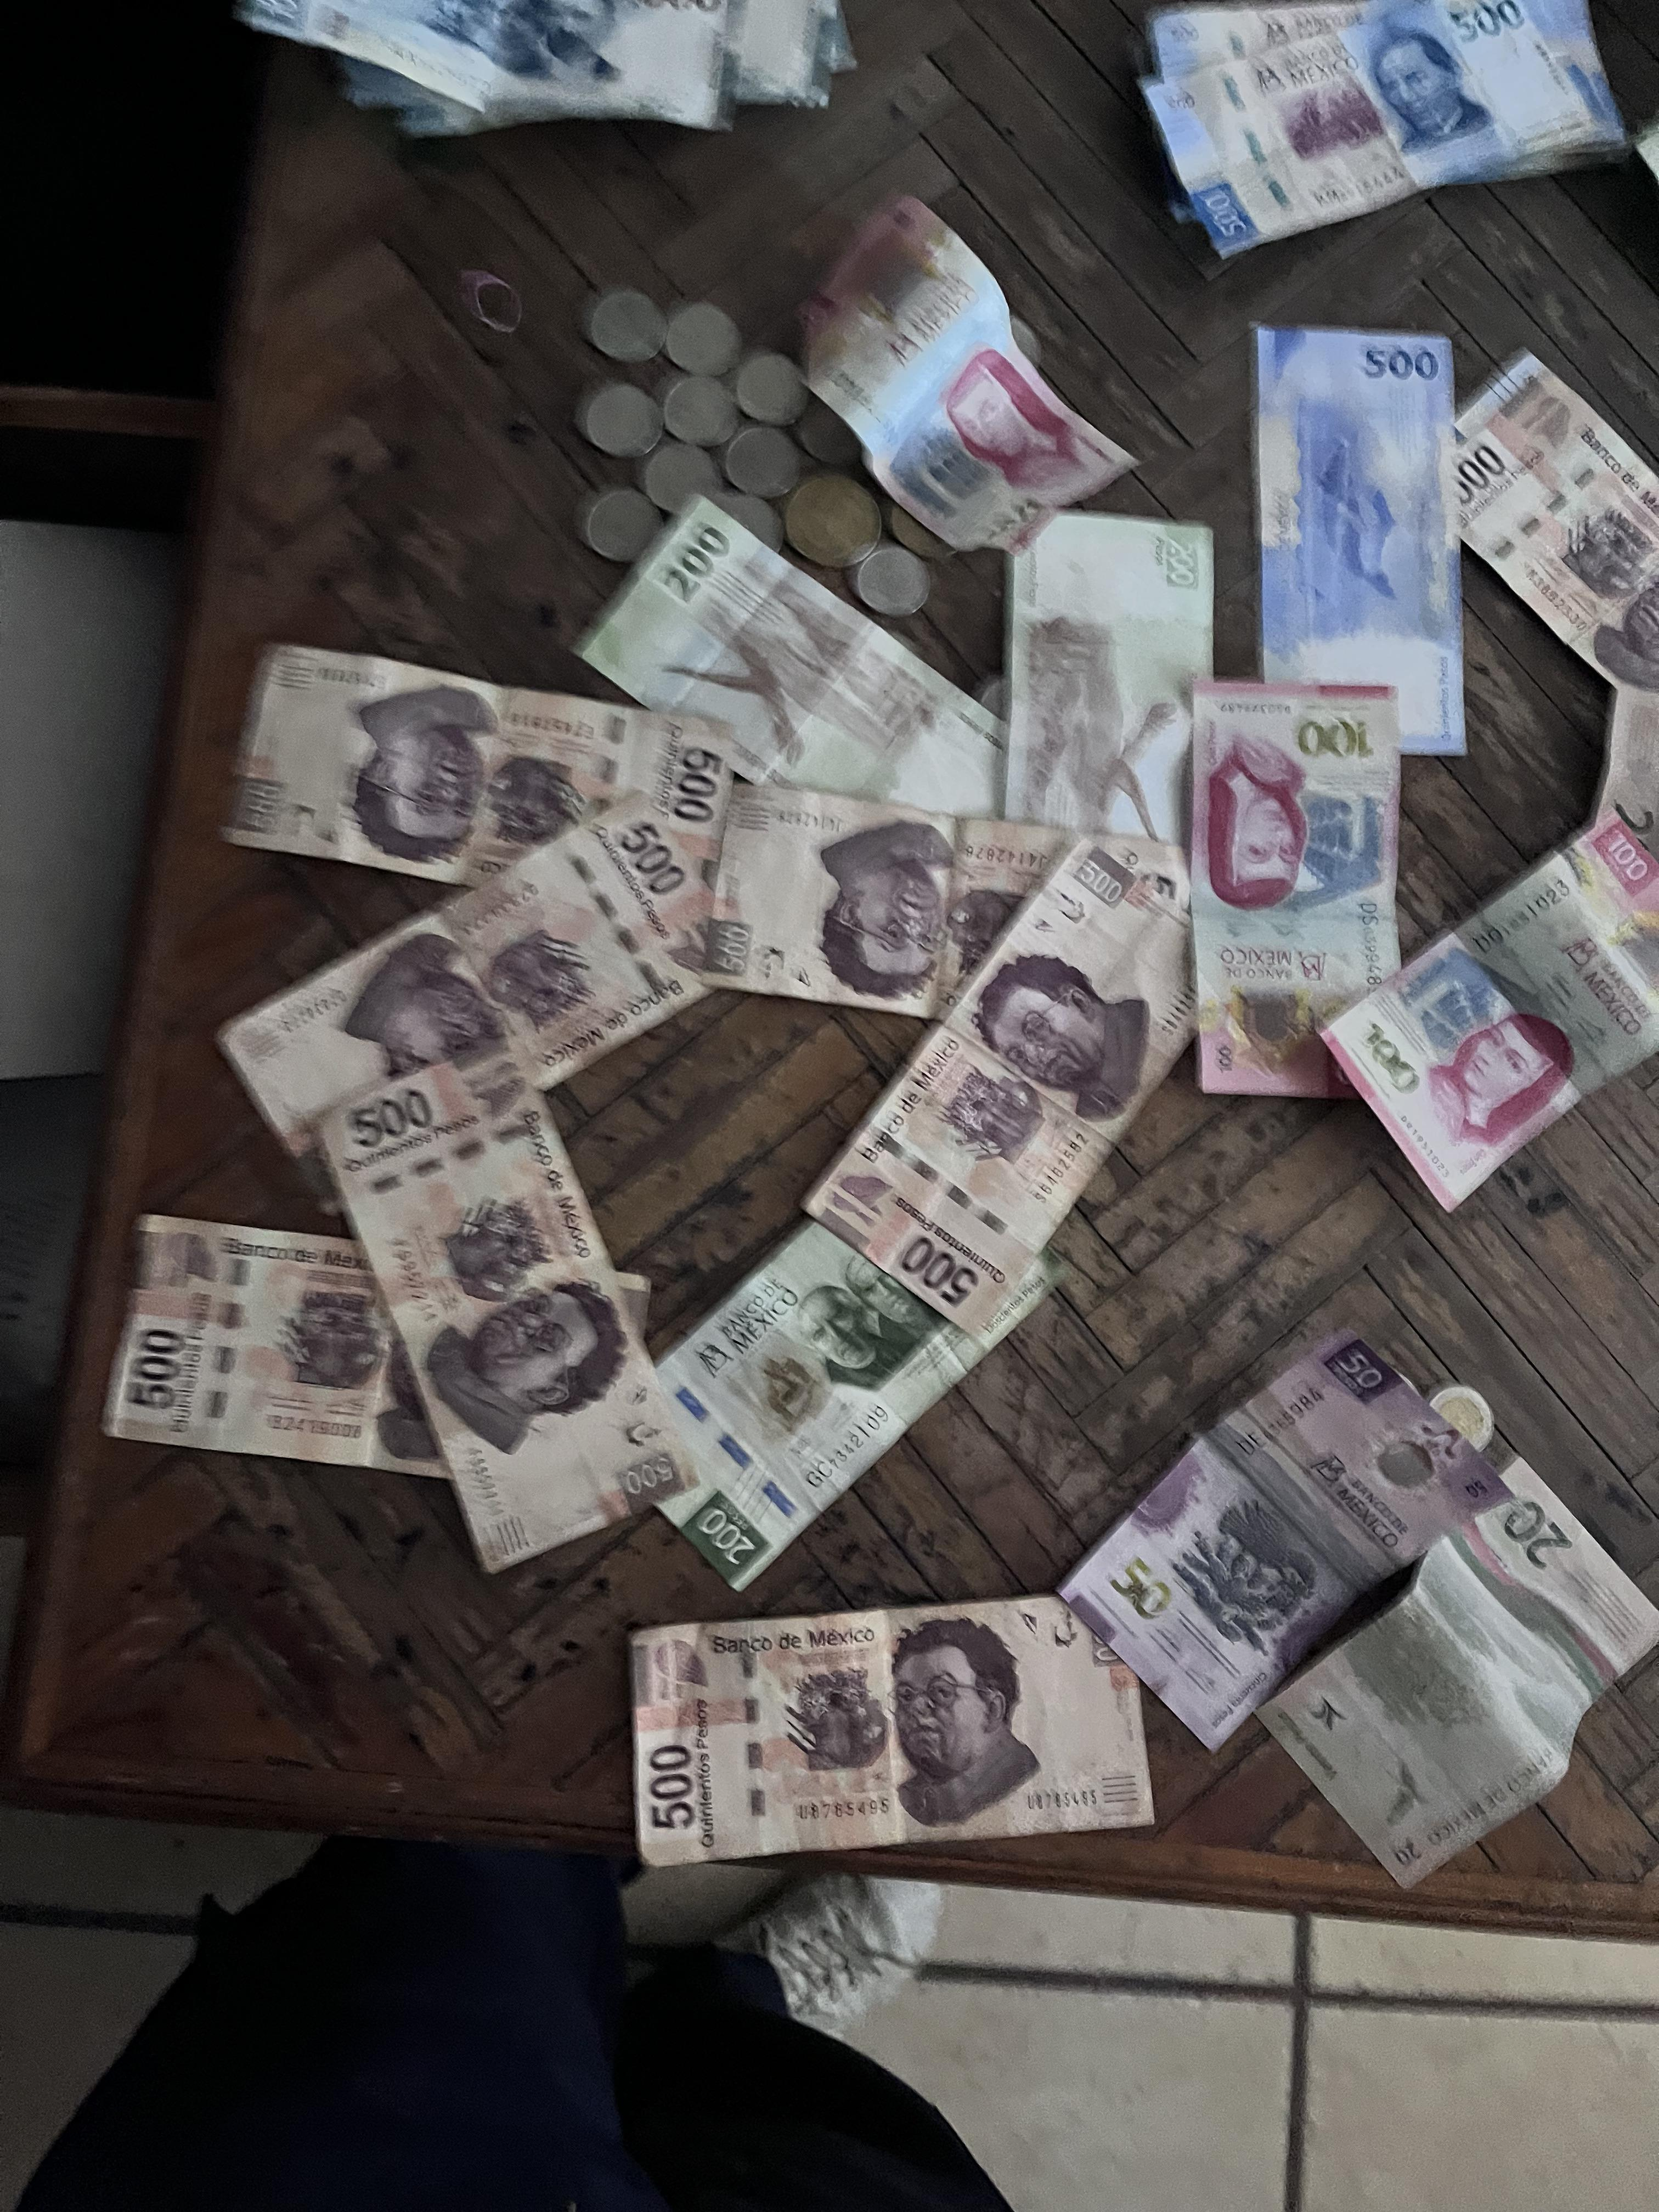100: (1309, 791, 1659, 1228), (782, 195, 1154, 549), (1162, 653, 1432, 1137)
1000: (173, 0, 850, 134)
20: (1237, 1463, 1659, 1900)
200: (596, 1176, 1084, 1578), (589, 493, 1054, 855), (979, 488, 1215, 878)
50: (1053, 1298, 1535, 1764)
500: (760, 831, 1234, 1371), (186, 784, 775, 1205), (300, 1045, 697, 1571), (601, 732, 1220, 1057), (85, 1193, 692, 1507), (598, 1583, 1164, 1865), (195, 631, 734, 913), (1429, 319, 1659, 690)
500 nuevo: (1155, 0, 1659, 254), (1229, 310, 1478, 768)
